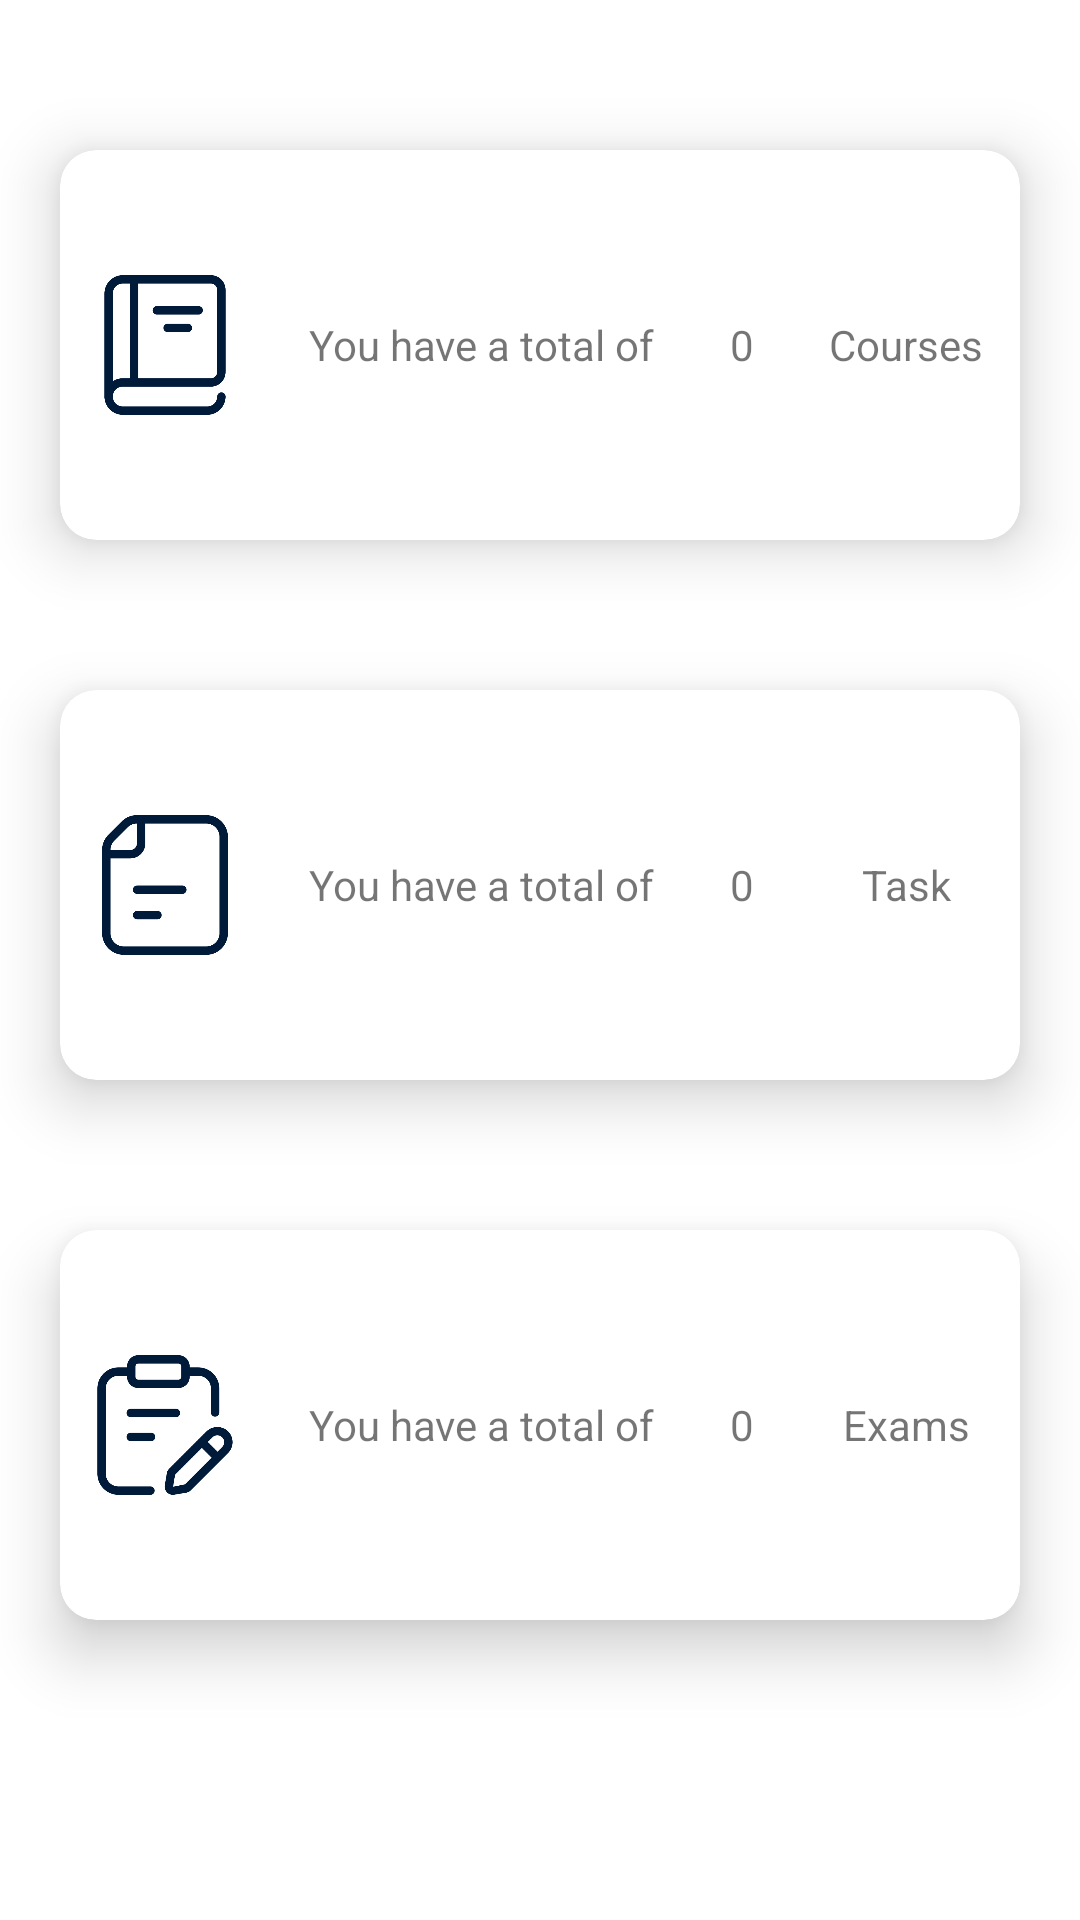

Where icons sit on this 1080px×1920px app screen, as box=[x1, y1, x2, y2]:
book: box=[104, 275, 226, 415]
exm: box=[97, 1355, 233, 1495]
